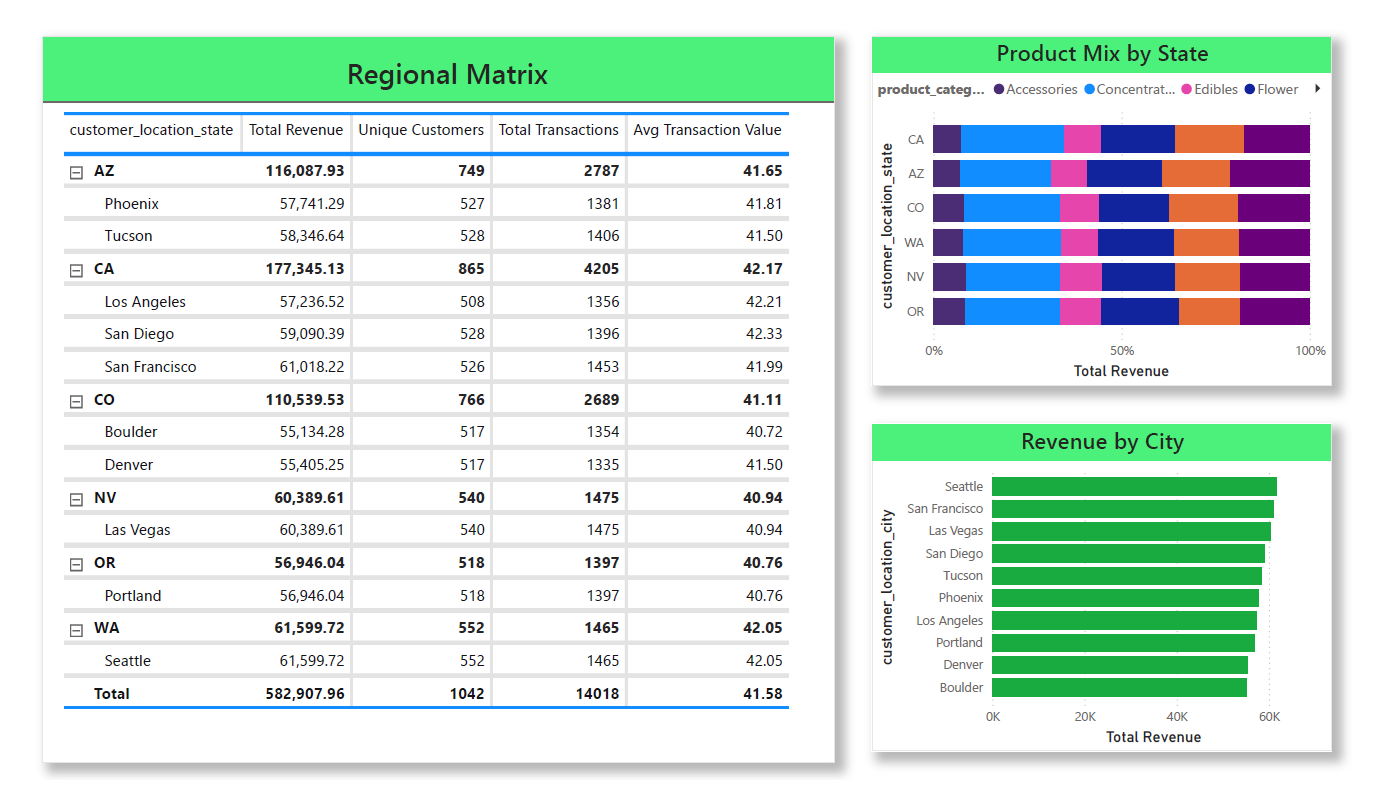

What the dashboard file says about the page in this screenshot:
{"tool":"powerbi","page":{"name":"Regional Demand","canvas":[1280,720],"ordinal":2},"visuals":[{"type":"barChart","title":"Revenue by City","fields":{"Category":["dispensary_data_cleaned.customer_location_city"],"Y":["dispensary_data_cleaned.Total Revenue"]},"box":[807.8,381.5,437.4,311.3],"z":0},{"type":"hundredPercentStackedBarChart","title":"Product Mix by State","fields":{"Y":["dispensary_data_cleaned.Total Revenue"],"Category":["dispensary_data_cleaned.customer_location_state"],"Series":["dispensary_data_cleaned.product_category"]},"box":[807.8,14.4,437.4,332.1],"z":1000},{"type":"pivotTable","title":"Regional Matrix","fields":{"Rows":["dispensary_data_cleaned.customer_location_state","dispensary_data_cleaned.customer_location_city"],"Values":["dispensary_data_cleaned.Total Revenue","dispensary_data_cleaned.Unique Customers","dispensary_data_cleaned.Total Transactions","dispensary_data_cleaned.Avg Transaction Value"]},"box":[20.8,14.4,751.9,689.7],"z":2000}]}

Visuals, with their boxes in screenshot pixels (x1, y1, x2, y2), scaled from the page's 1280x720 canvas onto the 1382x788 screenshot:
"Revenue by City" barChart: BBox(872, 418, 1344, 758)
"Product Mix by State" hundredPercentStackedBarChart: BBox(872, 16, 1344, 379)
"Regional Matrix" pivotTable: BBox(22, 16, 834, 771)
